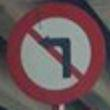Cam re: (6, 3, 106, 101)
